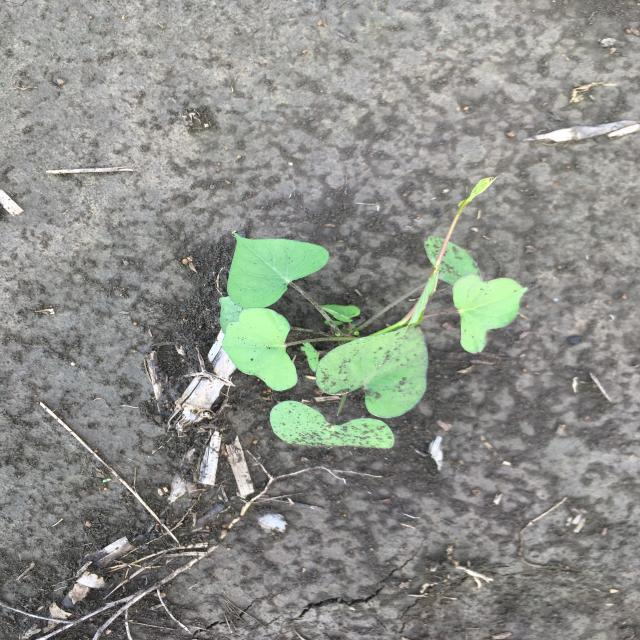MorningGlory: (216, 174, 532, 452)
